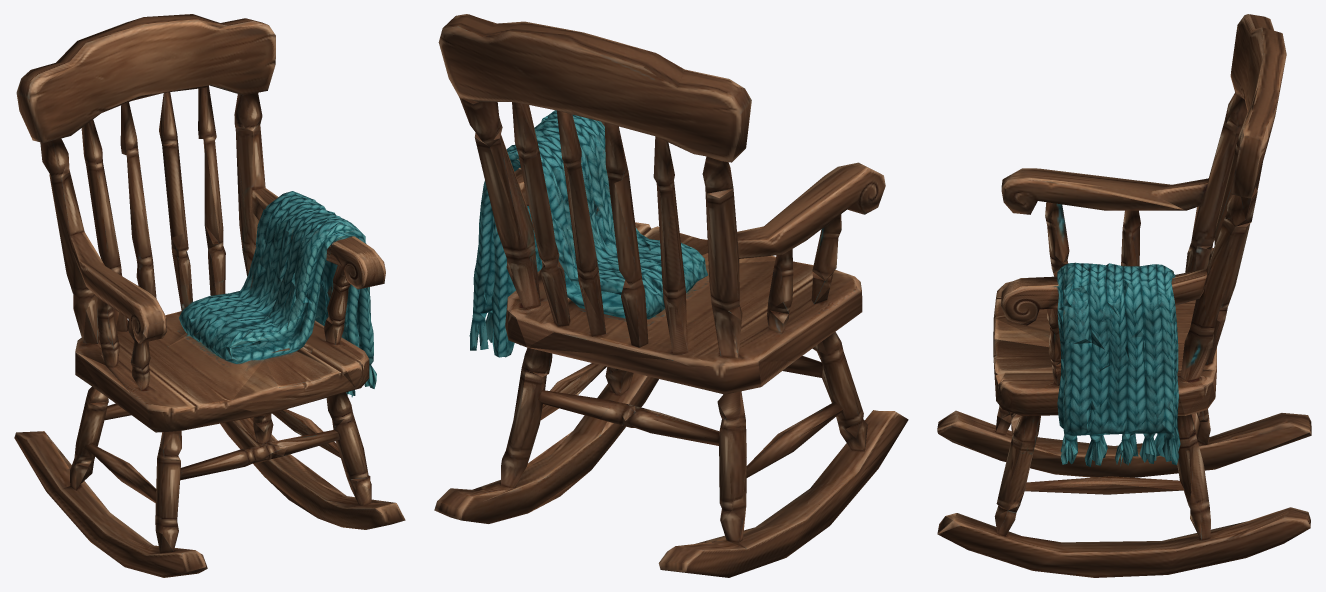
Rendered from Prop_RockingChair.fbx.
3 views of the same model, side by side, from view 1: azimuth 30°, elevation 25°; view 2: azimuth 150°, elevation 25°; view 3: azimuth 270°, elevation 25° (orthographic). The views are drawn at different scales.
Parts seen in each view (by area): view 1: Mesh_0; view 2: Mesh_0; view 3: Mesh_0.
Boxes of the visible parts, x1,y1,x2,y2 form: Mesh_0: [14, 14, 405, 577]; Mesh_0: [434, 14, 908, 577]; Mesh_0: [937, 14, 1311, 577].
Bounding box in the file's own units: 118 × 190 × 136.
1 material, 1 textured.
